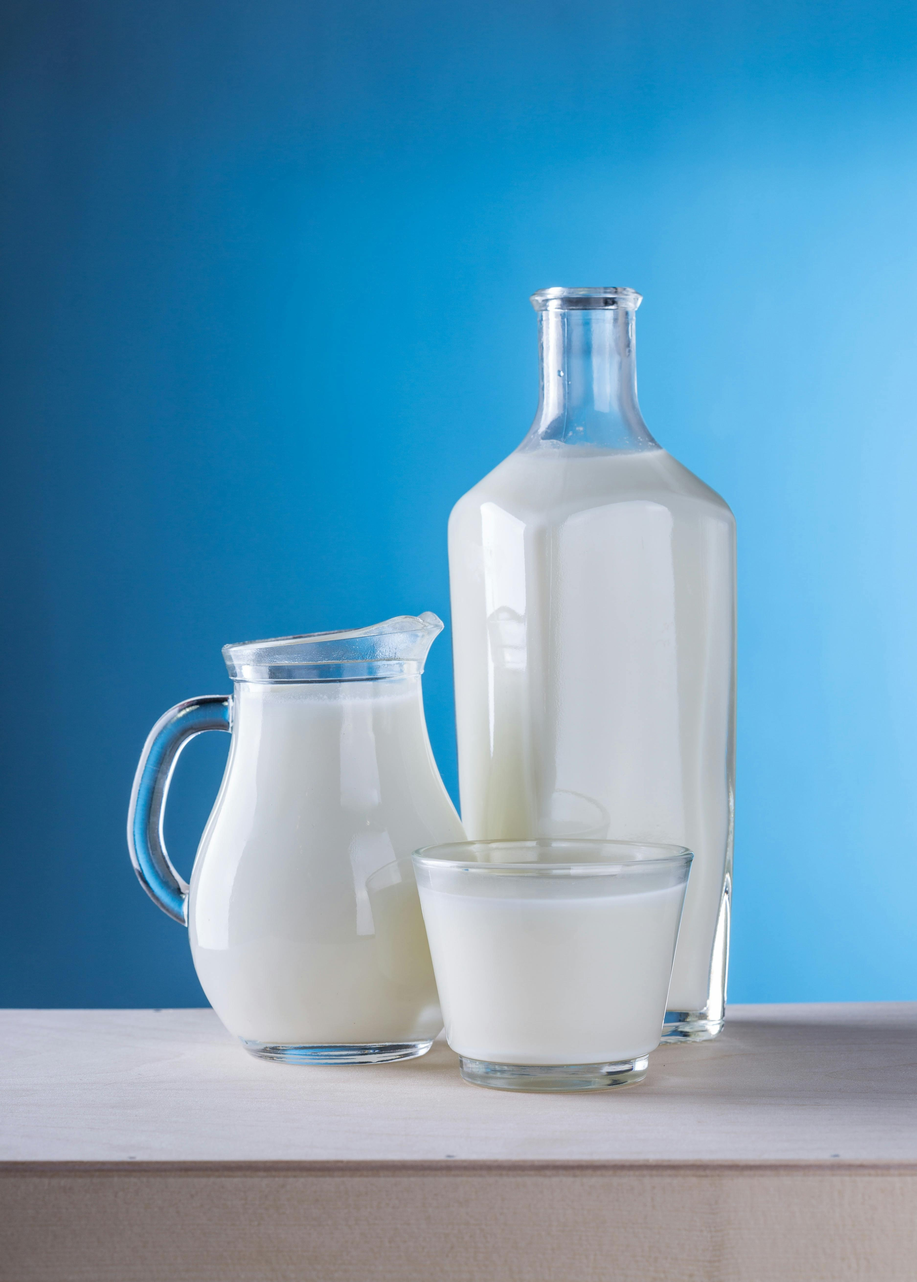produk_susu: (512, 431, 691, 826), (235, 656, 398, 1049), (440, 849, 652, 1092)
